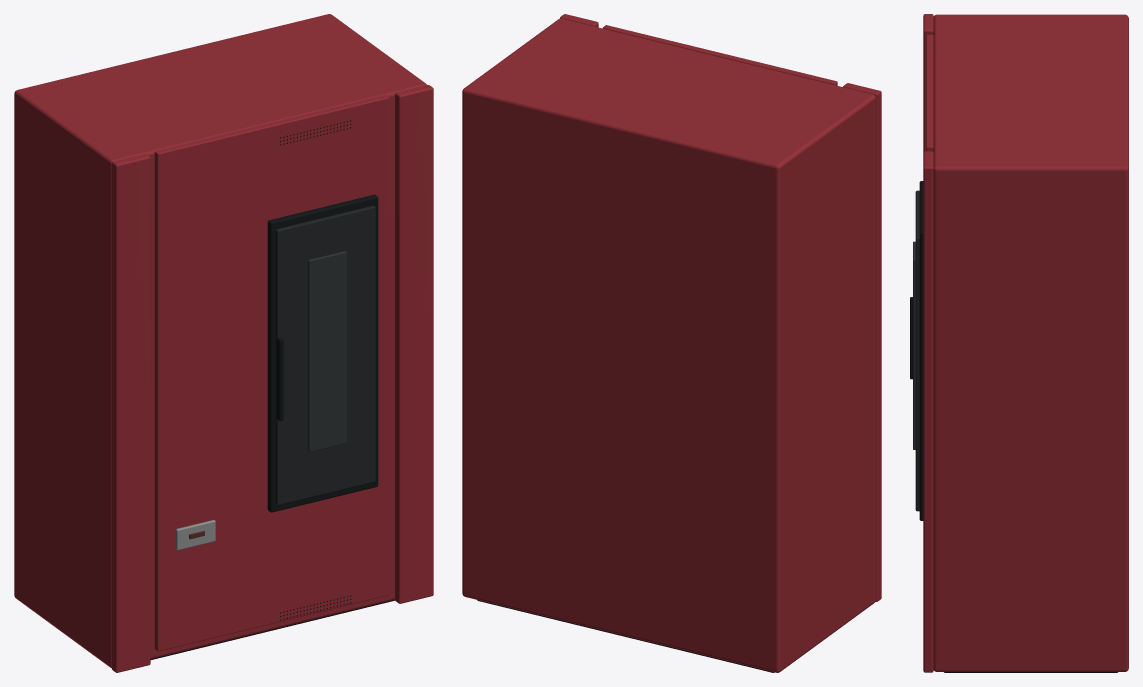
Rendered from nordica-luisella-50-bordeaux.glb.
The picture shows the model from 3 angles, left to right: view 1: azimuth 30°, elevation 25°; view 2: azimuth 150°, elevation 25°; view 3: azimuth 270°, elevation 25°; orthographic projection.
Parts seen in each view (by area): view 1: Corpo sottile, Pannello frontale, Sportello, Montante.001, Montante, Vetro sportello.001, Cornice porta, Display controllo, Maniglia.001; view 2: Corpo sottile, Montante, Pannello frontale; view 3: Corpo sottile, Montante.001, Cornice porta, Sportello, Pannello frontale, Vetro sportello.001, Montante.
Boxes of the visible parts, x1,y1,x2,y2 form: Corpo sottile: (14, 14, 426, 668); Pannello frontale: (154, 95, 389, 651); Sportello: (275, 205, 375, 505); Montante.001: (395, 85, 433, 603); Montante: (112, 154, 150, 672); Vetro sportello.001: (308, 251, 346, 452); Cornice porta: (267, 194, 378, 512); Display controllo: (176, 520, 215, 550); Maniglia.001: (276, 337, 283, 421); Corpo sottile: (462, 18, 875, 672); Montante: (843, 83, 881, 601); Pannello frontale: (602, 25, 837, 85); Corpo sottile: (933, 14, 1128, 671); Montante.001: (923, 151, 933, 672); Cornice porta: (919, 181, 923, 520); Sportello: (915, 190, 919, 511); Pannello frontale: (926, 34, 933, 151); Vetro sportello.001: (913, 241, 915, 449); Montante: (923, 14, 933, 152).
Size of the model in its own units: 0.572 by 0.8831 by 0.343.
